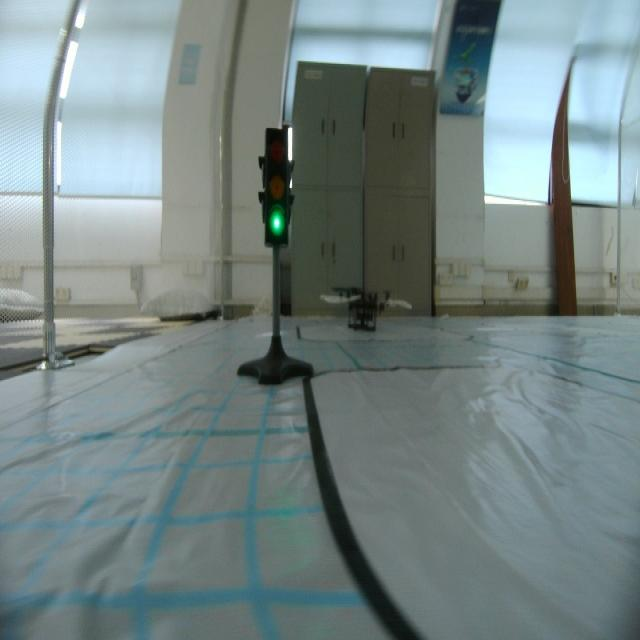green: (259, 121, 291, 244)
